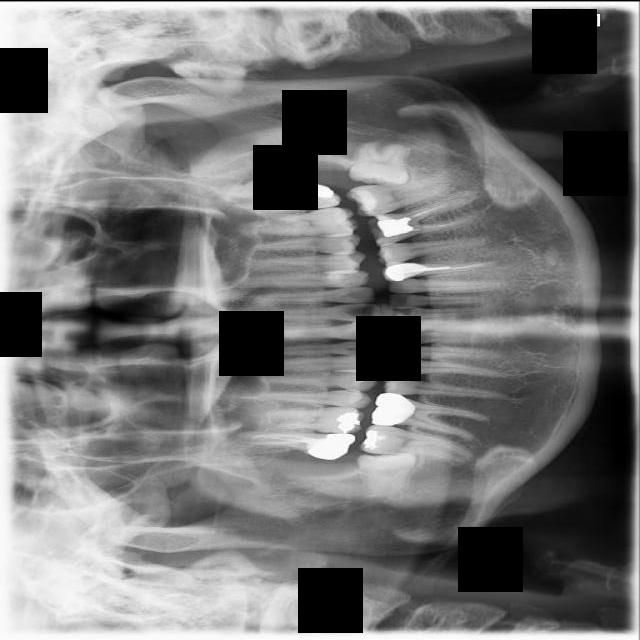52: (343, 171, 400, 229), (368, 387, 416, 433), (366, 206, 415, 249), (358, 418, 407, 460), (285, 180, 342, 210), (302, 432, 357, 459), (314, 406, 365, 434), (381, 254, 423, 284), (333, 302, 380, 323), (335, 321, 380, 339), (280, 175, 299, 182), (346, 347, 353, 349), (341, 295, 346, 296)
73: (407, 194, 475, 238), (235, 428, 316, 452), (419, 259, 500, 275), (566, 25, 582, 37)
BioHorizons Implant: (221, 179, 343, 220)
BioLife Implant: (207, 157, 310, 208)
Biomet 3i Implant: (348, 138, 413, 188)
Blue Sky Bio Implant: (344, 172, 455, 219)
Caries: (235, 430, 357, 460)
Implant: (359, 422, 476, 463)
Keystone Dental Implant: (356, 451, 418, 499)
